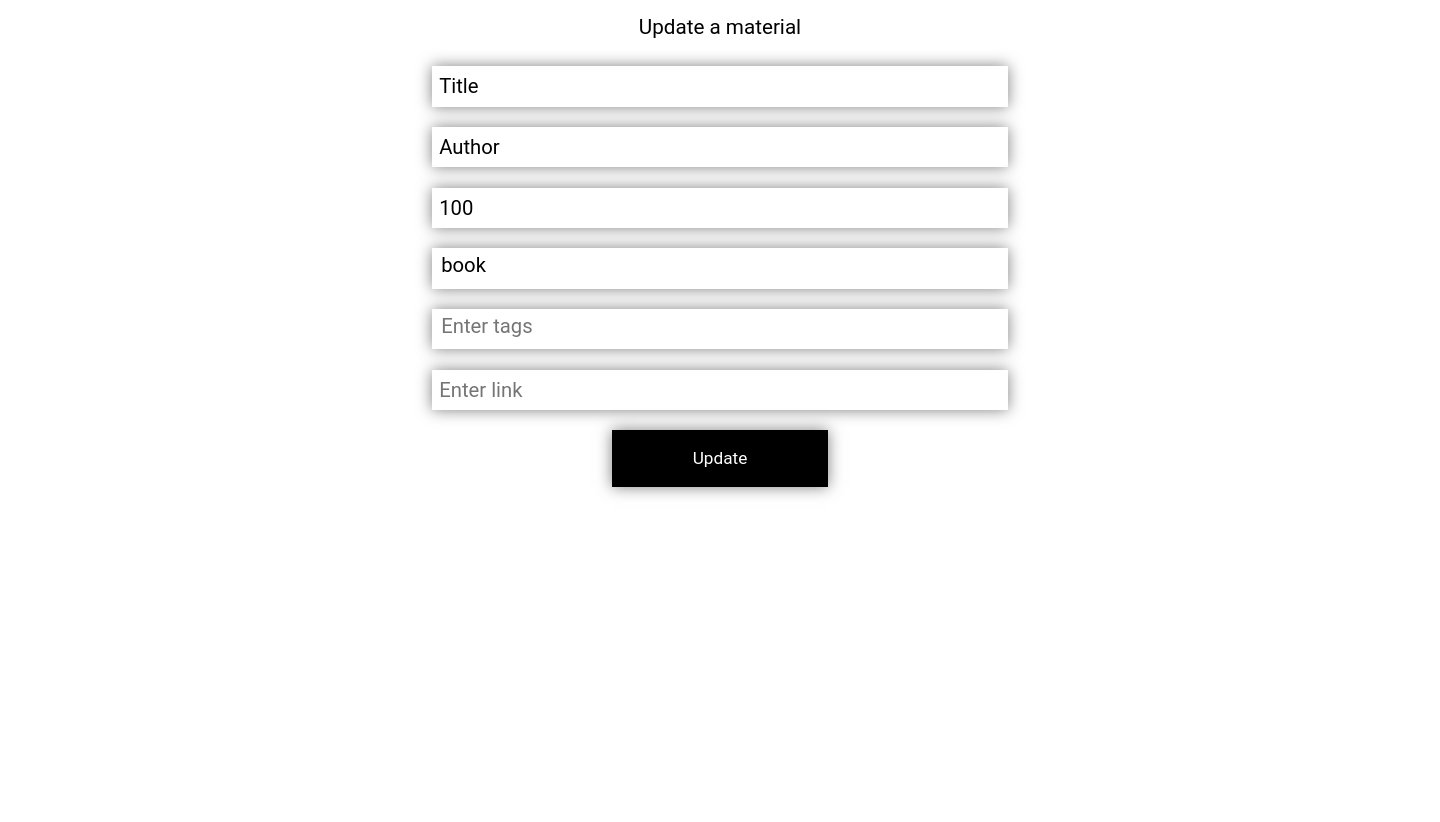
Test: UpdateMaterialPage › shows the error when the update is rejected
Step 1. Click the button "Update" → (720, 459), box [612, 430, 828, 487]
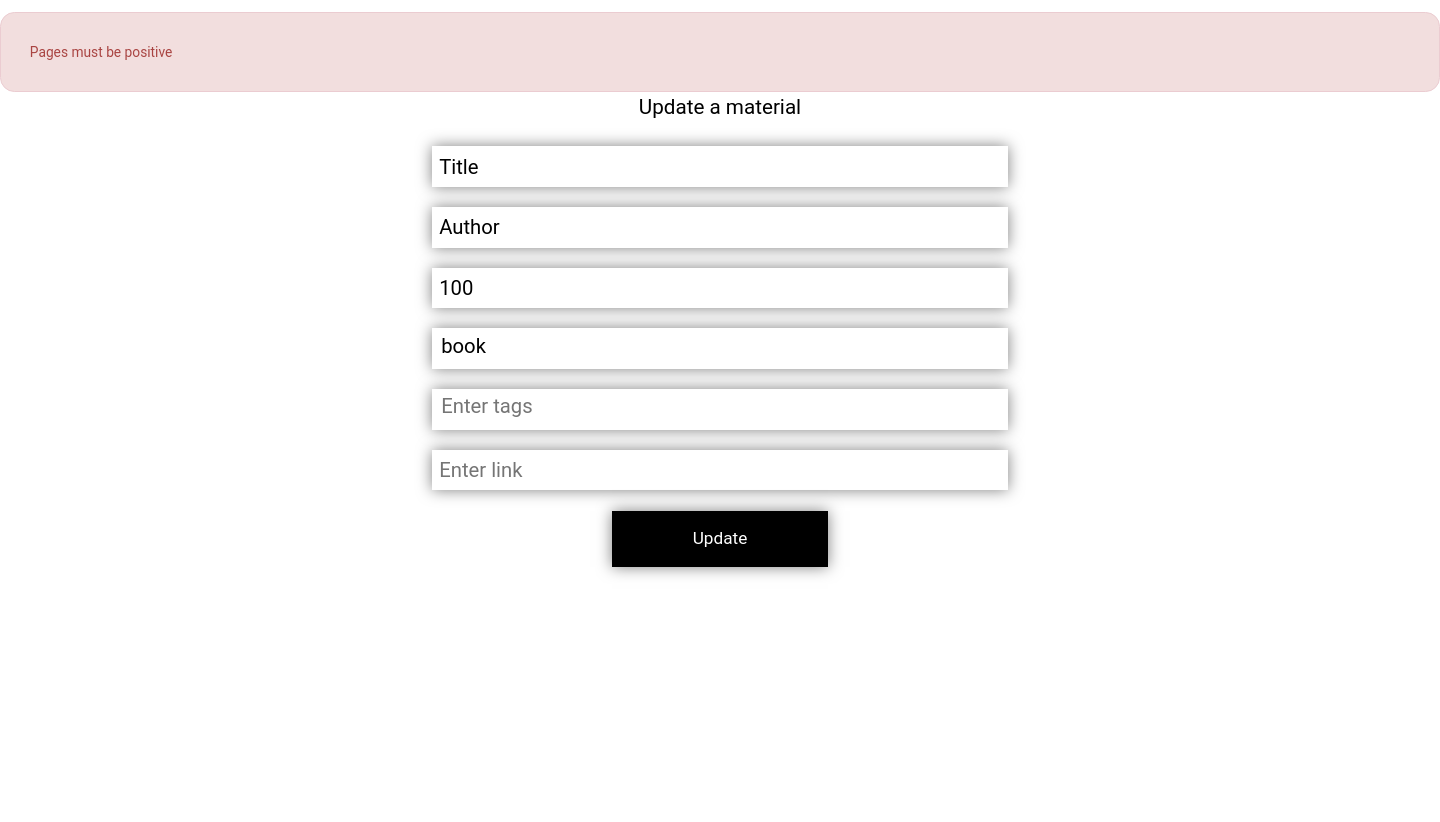
Expected: the text "Pages must be positive" is shown, [0, 12, 1439, 92]
